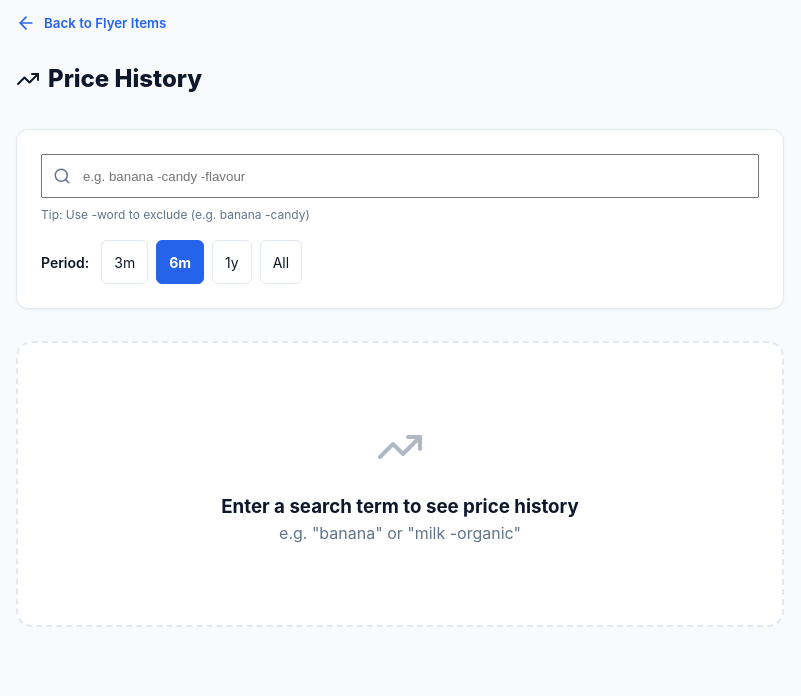
Test: PriceHistoryPage › excludes tokens shown as removable chips
Type "banana -candy" into the field with placeholder "e.g. banana -candy -flavour" at (400, 176), box [41,154,759,198]
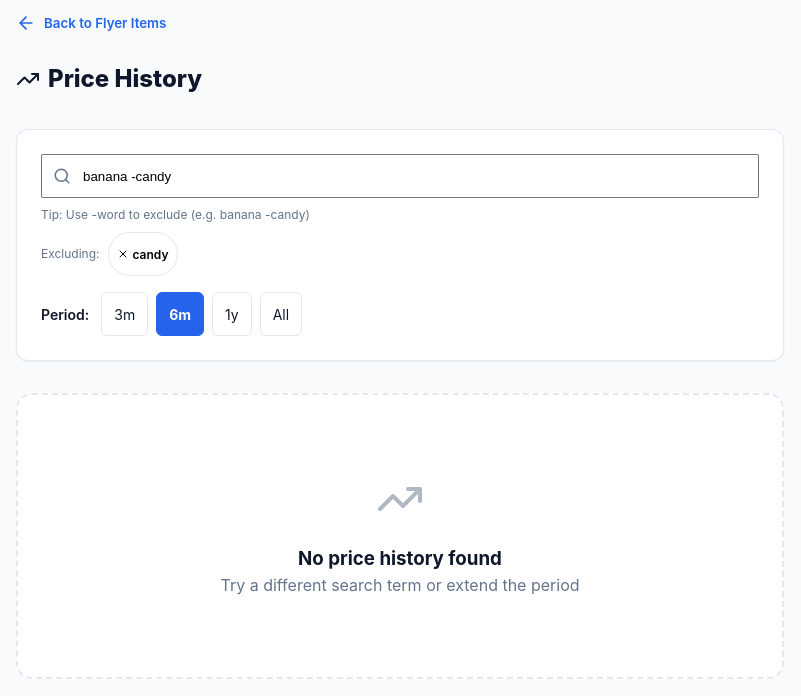
Expected: the button "candy" is shown, [108,232,178,276]
